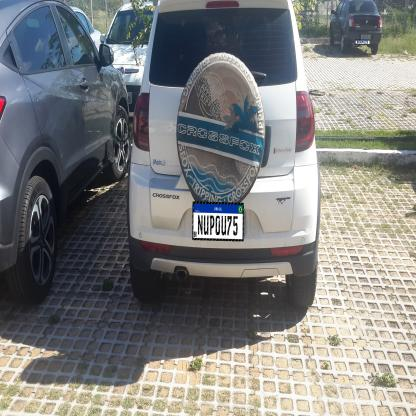PlacaM: (192, 202, 244, 242), (355, 40, 370, 44)
